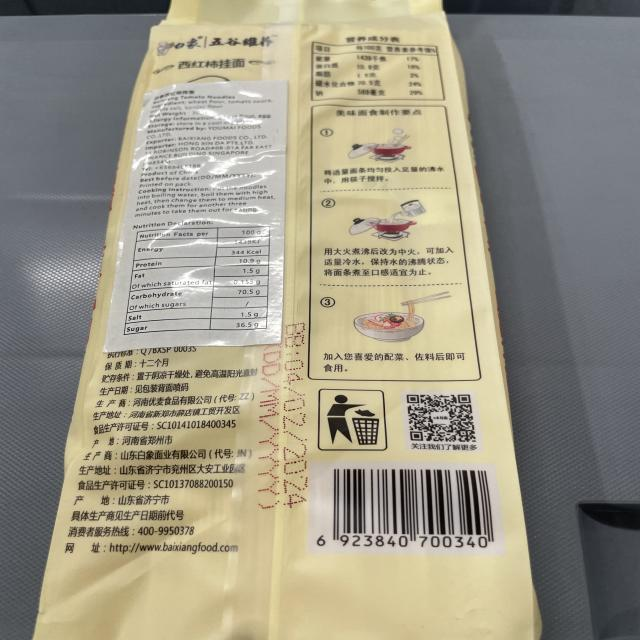object_name: (79, 2, 501, 640)
